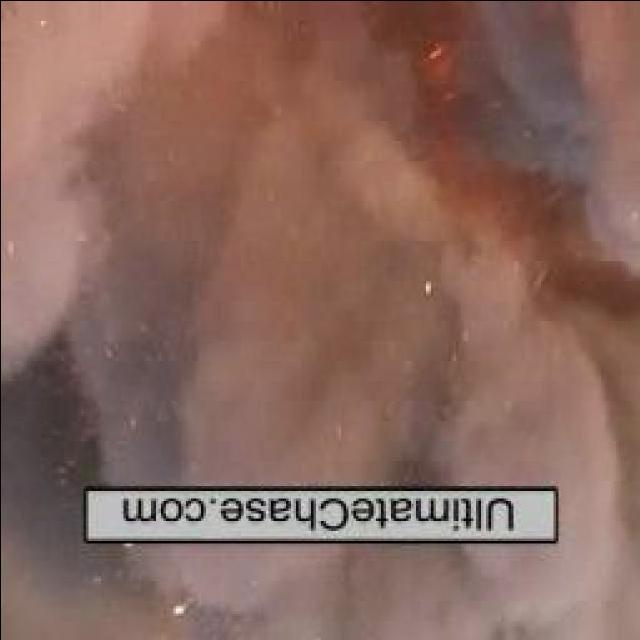Fire: (376, 0, 603, 324)
